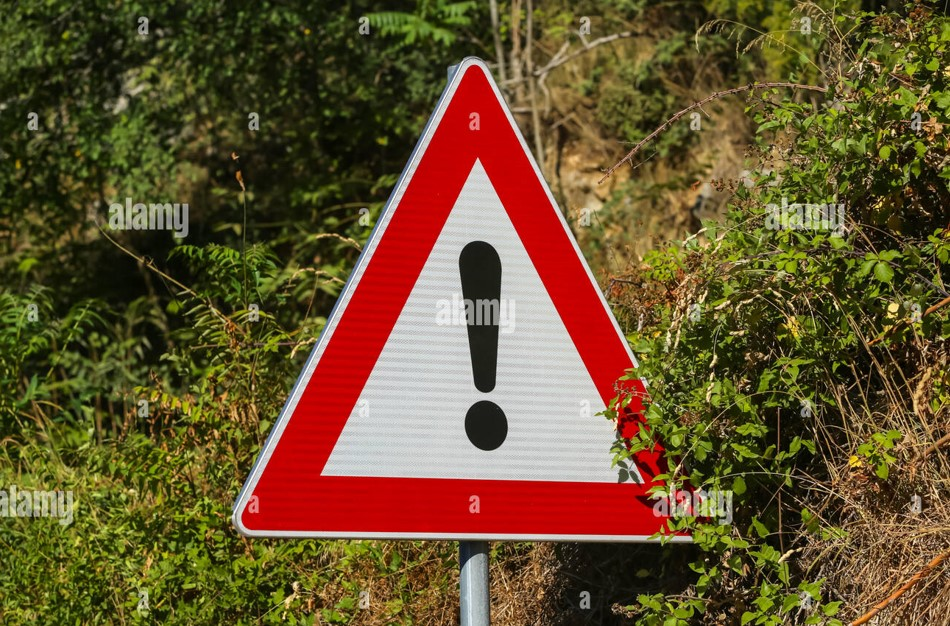Danger: (230, 55, 730, 558)
